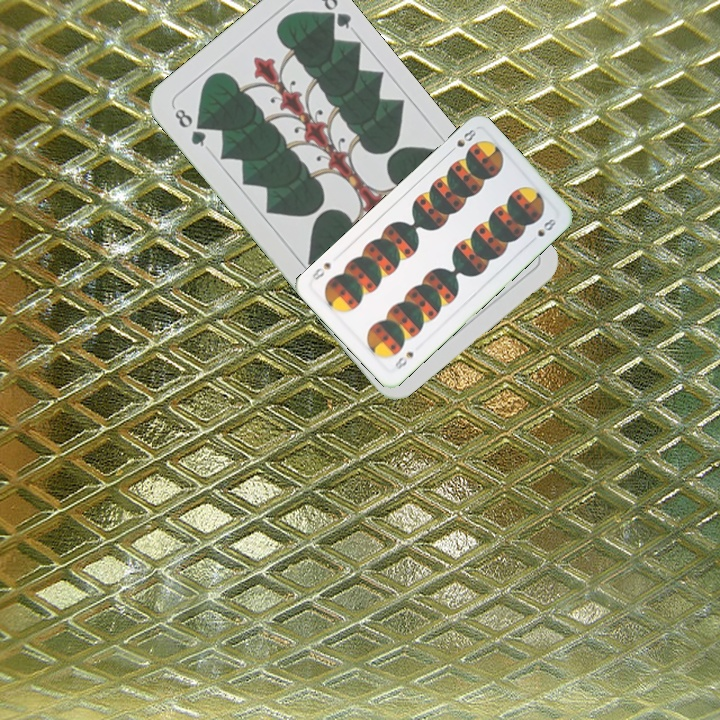G8: (170, 104, 209, 150)
S8: (445, 125, 479, 157), (391, 347, 416, 373)
